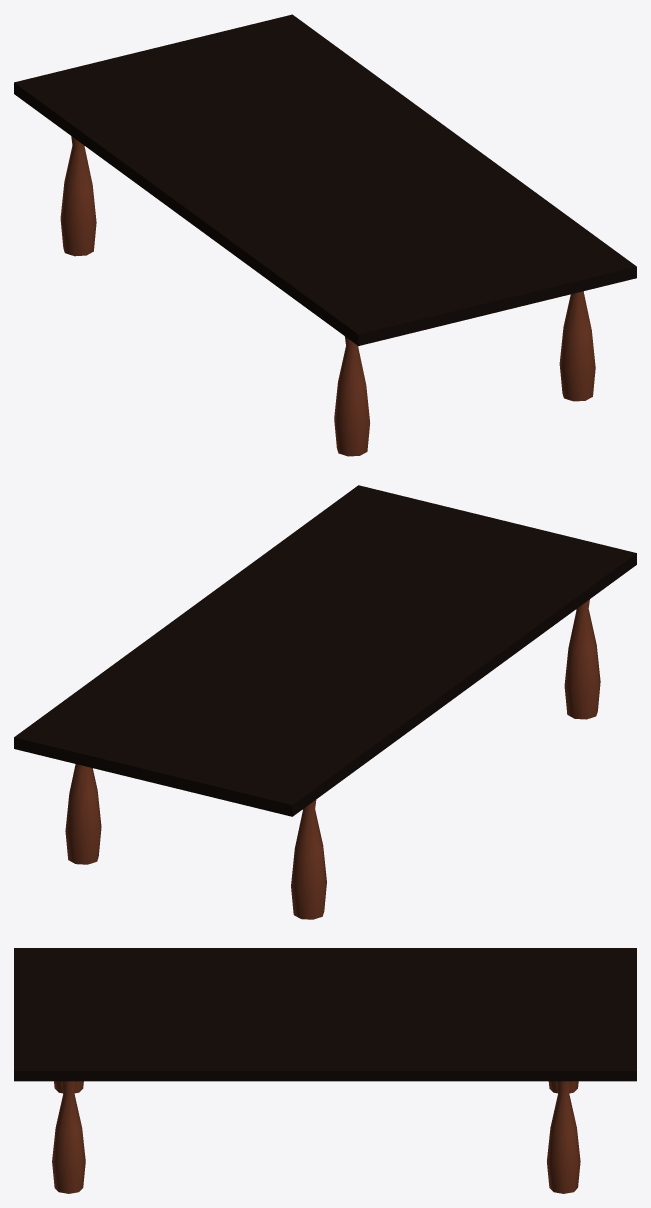
The model's file is largetable.FBX.
3 renders of one model, top to bottom at view 1: azimuth 30°, elevation 25°; view 2: azimuth 150°, elevation 25°; view 3: azimuth 270°, elevation 25°, orthographic. The views are drawn at different scales.
Visible parts, largest first — view 1: Table; view 2: Table; view 3: Table.
Part boxes in pixels (x1=…): Table: x1=14, y1=14, x2=636, y2=456; Table: x1=14, y1=485, x2=636, y2=919; Table: x1=14, y1=948, x2=636, y2=1193.
Size of the model in its own units: 74.65 by 160 by 36.77.
